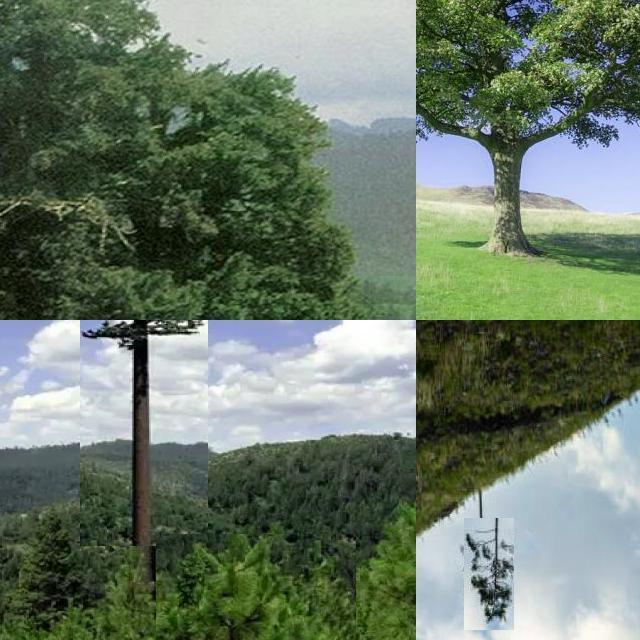tree: (0, 0, 416, 320), (416, 1, 640, 260), (80, 320, 208, 546), (156, 534, 356, 640), (372, 471, 417, 640), (464, 518, 514, 630)
